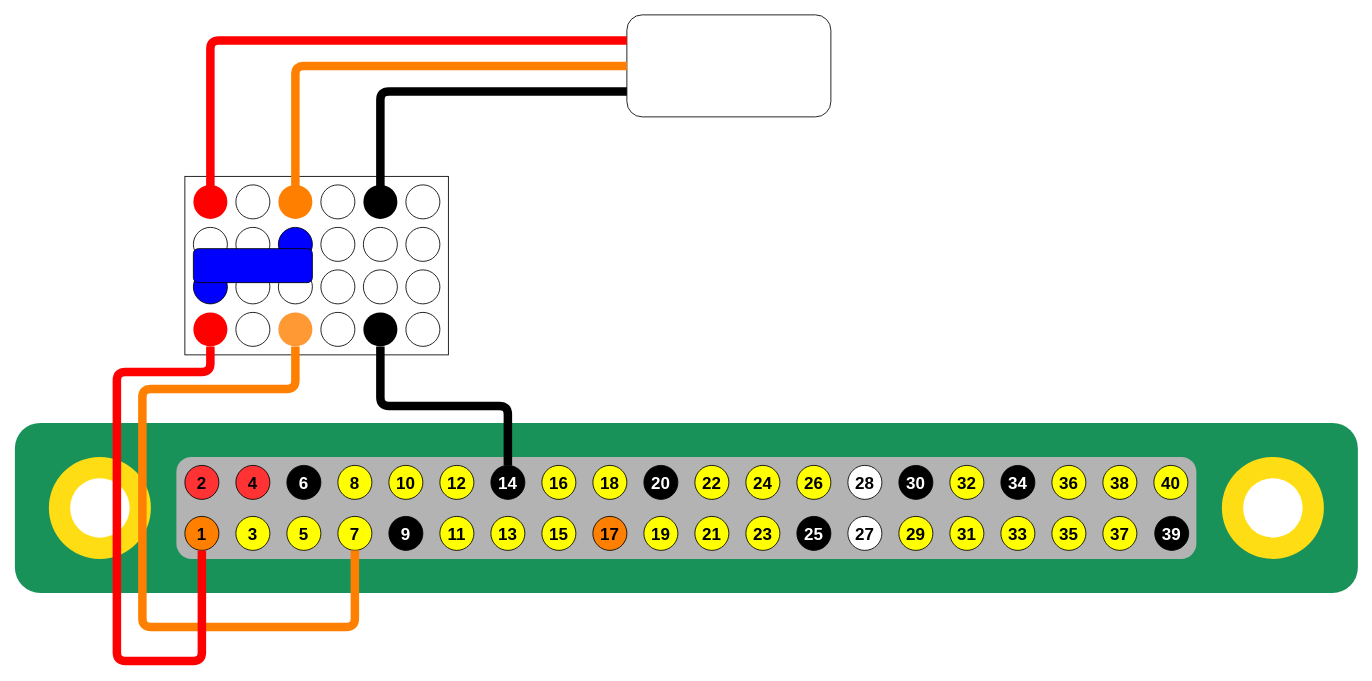
The diagram is 1372 pixels wide and 681 high, and some of its shapes have lost their labels. Here are the shapes that lost their labels. From the top down, the box of each, then its label:
(626, 14, 831, 117): DS18B20
(193, 248, 312, 283): 10K Ω
